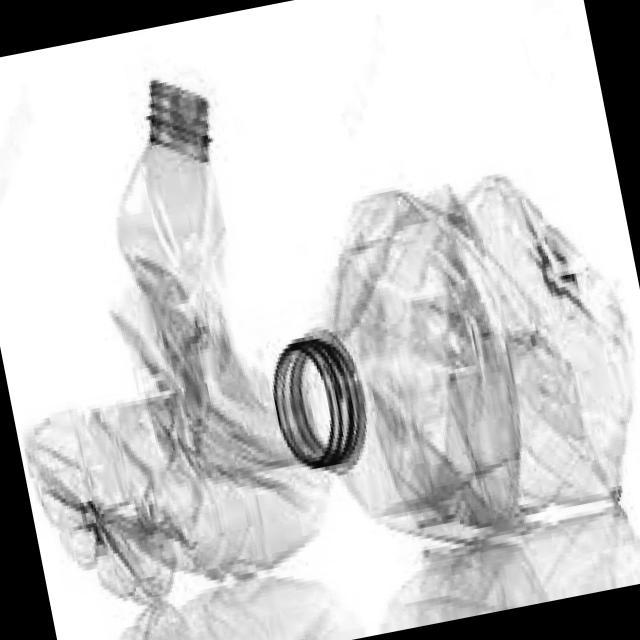defected: (0, 60, 340, 615), (237, 134, 640, 585)
